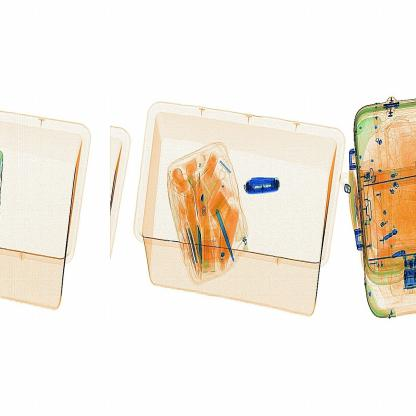scissors: (243, 167, 292, 201)
